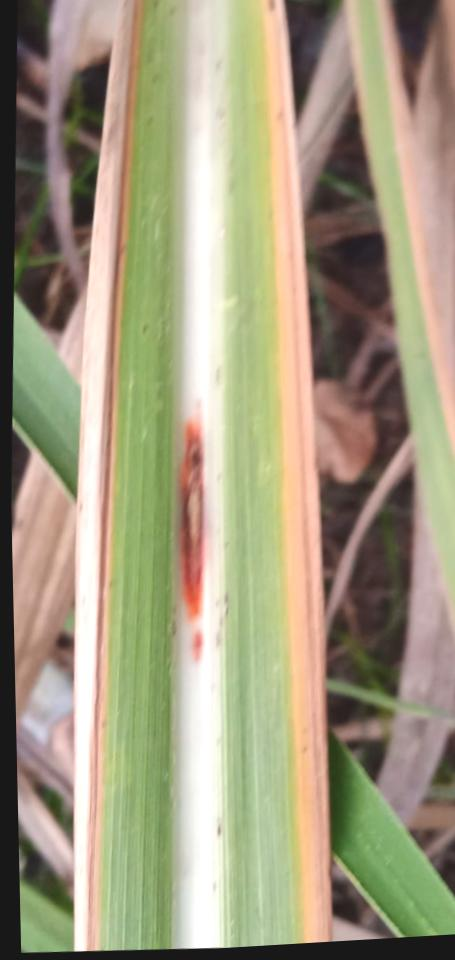RedRot: (178, 398, 204, 623), (191, 628, 203, 663)
Rust: (213, 590, 227, 649), (214, 814, 221, 838), (171, 605, 176, 637), (211, 880, 215, 893)
Yellow: (260, 0, 331, 943), (73, 0, 142, 951)
